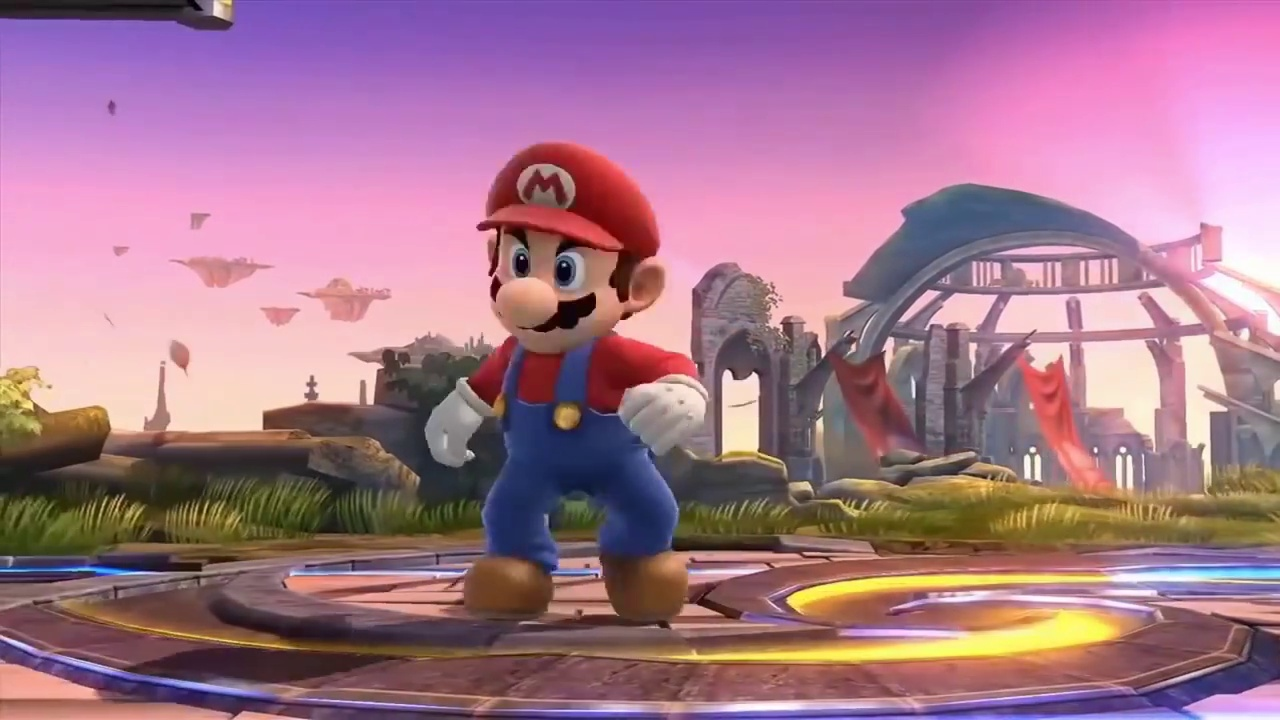Mario: (430, 140, 706, 624)
